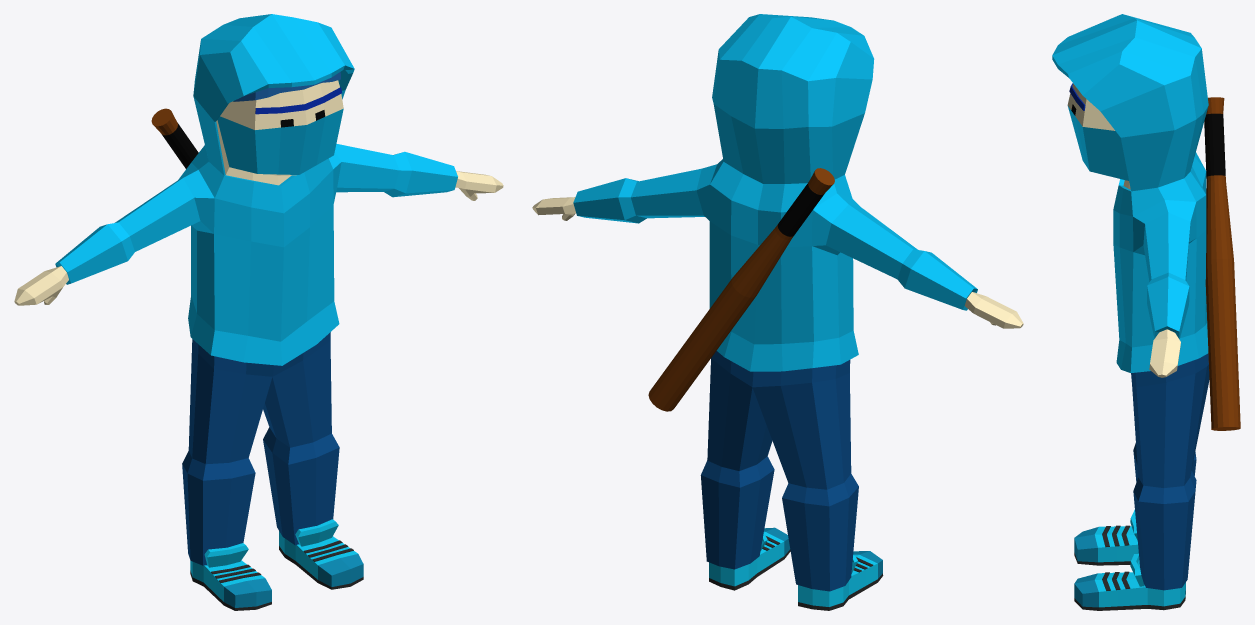
The model's file is Character_Boy_Blue.fbx.
3 renders of one model, left to right at view 1: azimuth 30°, elevation 25°; view 2: azimuth 150°, elevation 25°; view 3: azimuth 270°, elevation 25°, orthographic.
Visible parts, largest first — view 1: Cube.001, Cylinder.001; view 2: Cube.001, Cylinder.001; view 3: Cube.001, Cylinder.001.
Boxes of the visible parts, x1,y1,x2,y2 form: Cube.001: (14,14,503,610); Cylinder.001: (151,108,198,168); Cube.001: (532,14,1023,610); Cylinder.001: (648,168,834,411); Cube.001: (1052,14,1209,610); Cylinder.001: (1204,97,1240,430).
Bounding box in the file's own units: 153 × 169 × 51.67.
